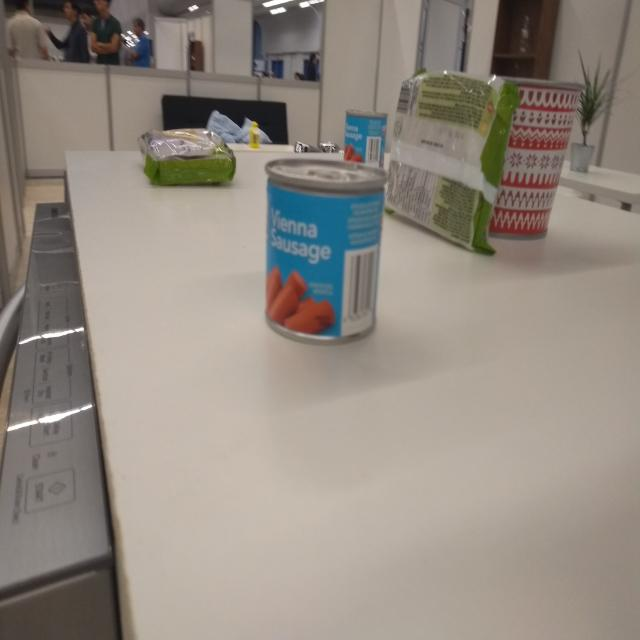noodles: (378, 67, 525, 263)
sausages: (261, 150, 392, 352)
